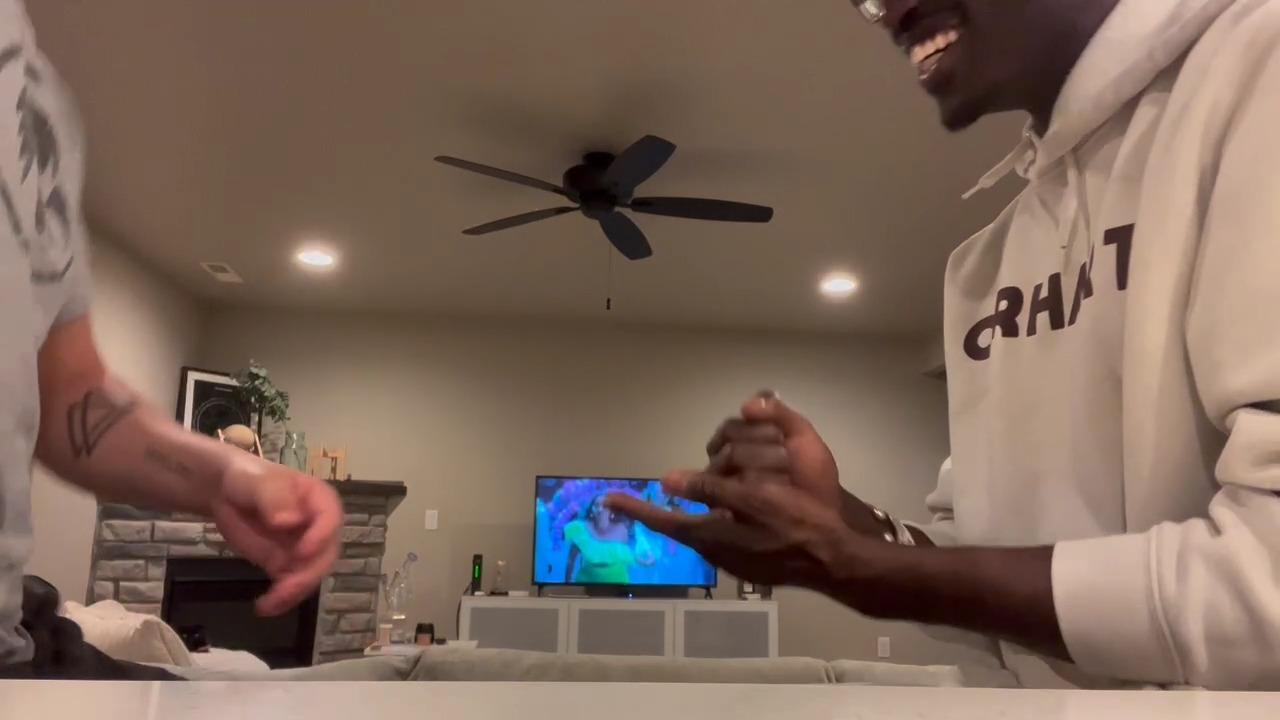Rock: (705, 385, 847, 519)
